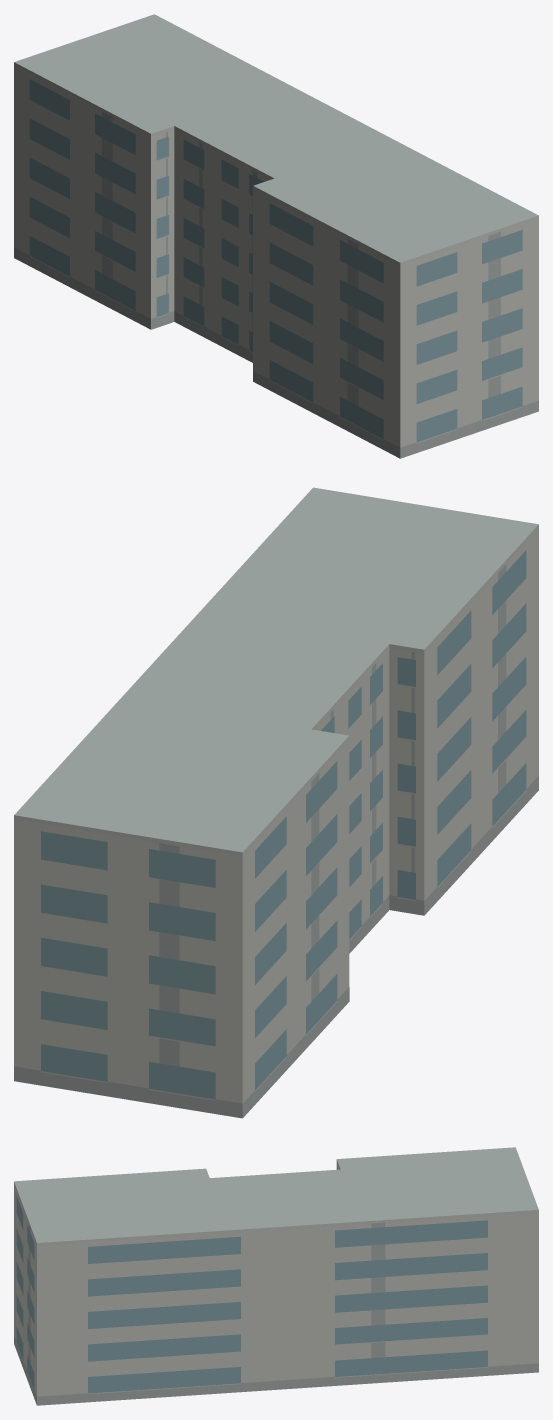
The model's file is residential-c9f5172b-676c-480d-a392-3bd09059a94a.glb.
3 views of the same model, one above another, from view 1: azimuth 30°, elevation 25°; view 2: azimuth 150°, elevation 25°; view 3: azimuth 270°, elevation 25° (orthographic). The views are drawn at different scales.
Visible parts, largest first — view 1: residential-c9f5172b-676c-480d-a392-3bd09059a94a.tmp; view 2: residential-c9f5172b-676c-480d-a392-3bd09059a94a.tmp; view 3: residential-c9f5172b-676c-480d-a392-3bd09059a94a.tmp.
Boxes of the visible parts, x1,y1,x2,y2 form: residential-c9f5172b-676c-480d-a392-3bd09059a94a.tmp: (14,14,538,458); residential-c9f5172b-676c-480d-a392-3bd09059a94a.tmp: (14,487,538,1118); residential-c9f5172b-676c-480d-a392-3bd09059a94a.tmp: (14,1147,538,1405).
Bounding box in the file's own units: 19.27 × 15.25 × 44.62.
